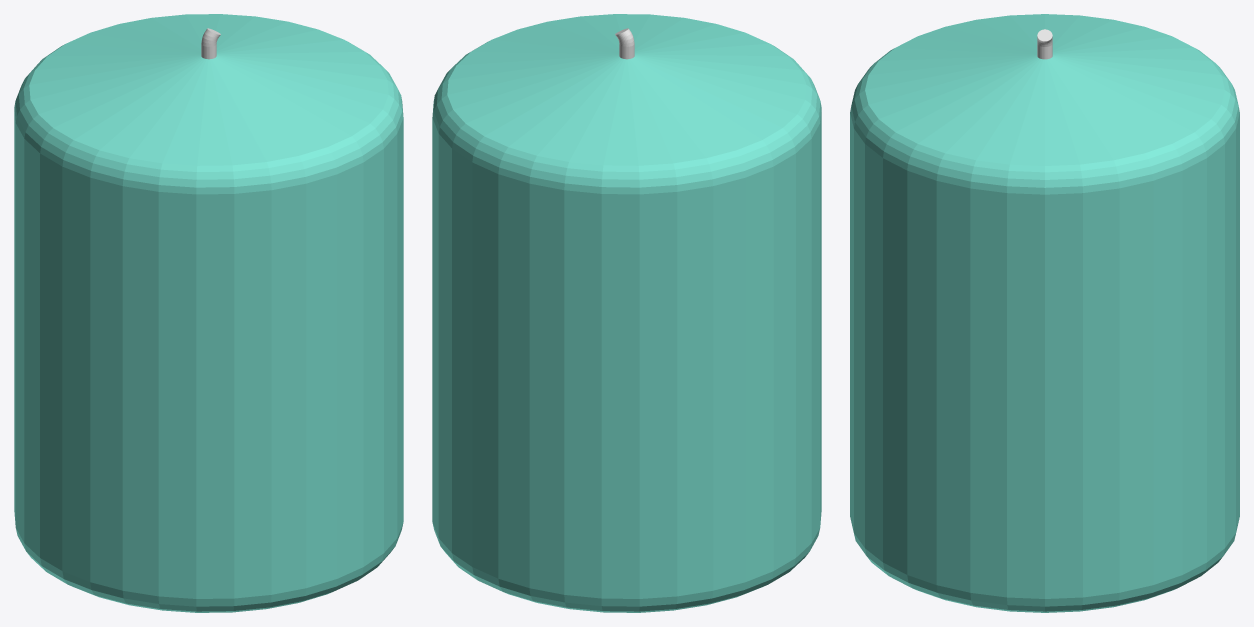
File: Candle.fbx
3 views of the same model, side by side, from view 1: azimuth 30°, elevation 25°; view 2: azimuth 150°, elevation 25°; view 3: azimuth 270°, elevation 25° (orthographic).
Parts seen in each view (by area): view 1: Cylinder.002; view 2: Cylinder.002; view 3: Cylinder.002.
Boxes of the visible parts, <box> form: Cylinder.002: <box>14,14,403,612</box>; Cylinder.002: <box>432,14,821,612</box>; Cylinder.002: <box>850,14,1239,612</box>.
Bounding box in the file's own units: 200 × 288 × 200.
